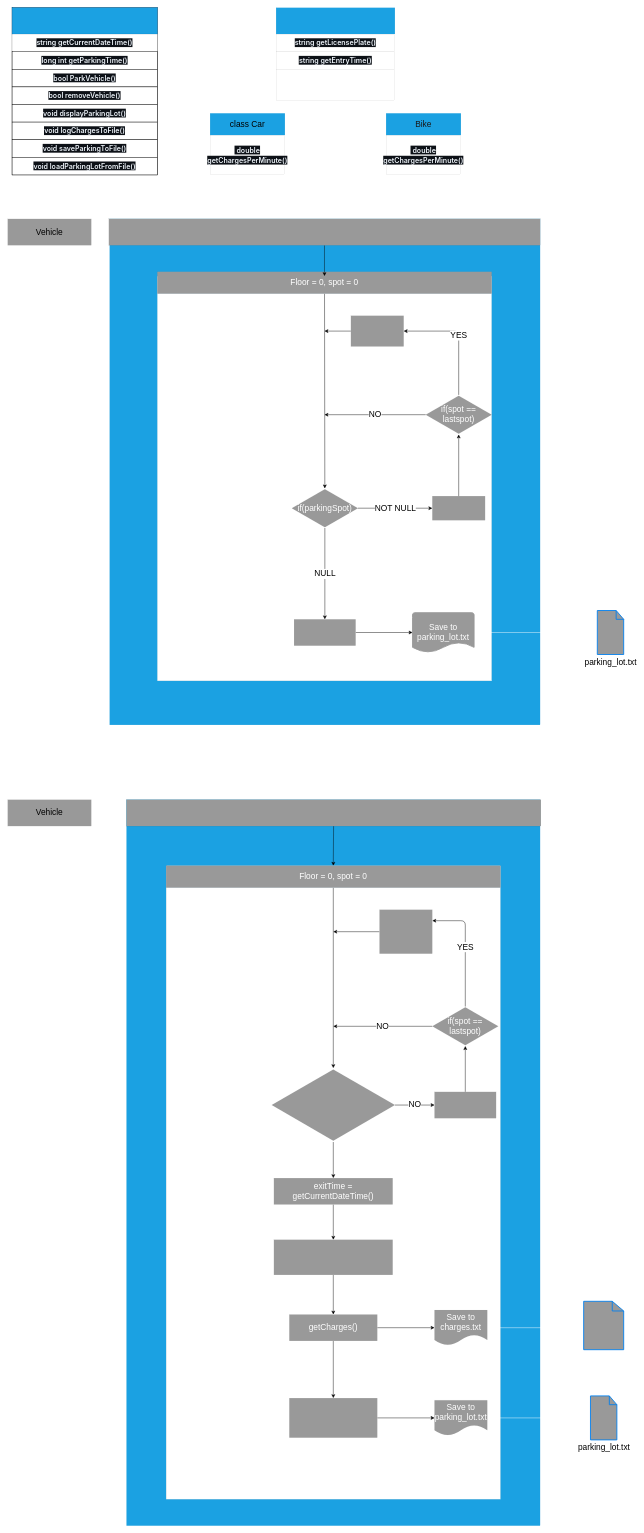
The diagram is 644 pixels wide and 1533 high, and some of its shapes have lost their labels. The shapes that lost their labels are listed below. From the top down, each one's centre as x and y in pixels, then its label:
At (x=84, y=20): "class Parking".
At (x=335, y=20): "class Vehicle".
At (x=335, y=84): "virtual double getChargesPerMinute()".
At (x=324, y=232): "bool parkVehicle(Car or Bike, getCurrentDateTime())".
At (x=377, y=330): "NextFloor floor++, spot= 0,".
At (x=458, y=508): "CheckNext (spot++)".
At (x=324, y=632): "VehicleParked".
At (x=333, y=812): "bool removeVehicle(licensePlate)".
At (x=405, y=931): "NextFloor floor++, spot=0".
At (x=333, y=1105): "if(lvehicle.licensePlate ==licensePlate".
At (x=465, y=1105): "CheckNextSpot spot++".
At (x=333, y=1257): "totalParkingTime= getParkingTime(exitTime, entryTime)".
At (x=603, y=1325): "charges.txt".
At (x=333, y=1417): "parkingSpot == NULL".
